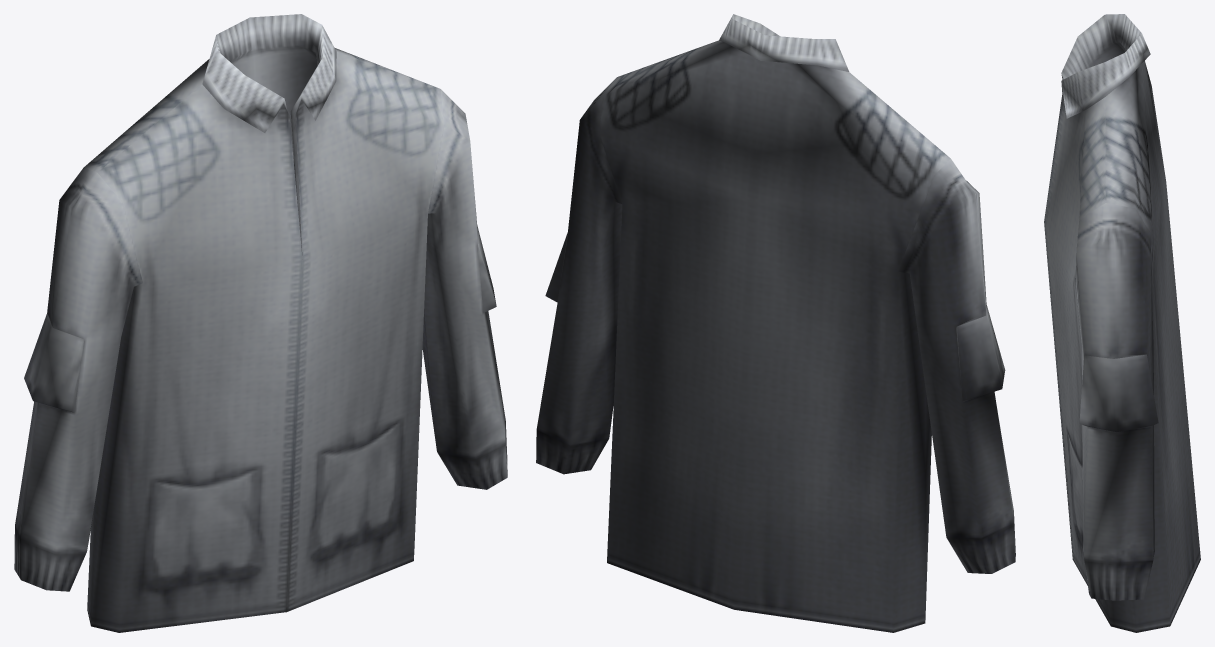
Rendered from G_DanShenHan_yifu_07.FBX.
3 views of the same model, side by side, from view 1: azimuth 30°, elevation 25°; view 2: azimuth 150°, elevation 25°; view 3: azimuth 270°, elevation 25° (orthographic). The views are drawn at different scales.
Parts seen in each view (by area): view 1: DanShenHan_yifu_07; view 2: DanShenHan_yifu_07; view 3: DanShenHan_yifu_07.
Boxes of the visible parts, x1=… form: DanShenHan_yifu_07: x1=14, y1=14, x2=507, y2=632; DanShenHan_yifu_07: x1=536, y1=14, x2=1015, y2=632; DanShenHan_yifu_07: x1=1044, y1=14, x2=1200, y2=632.
Bounding box in the file's own units: 143 × 159 × 43.
